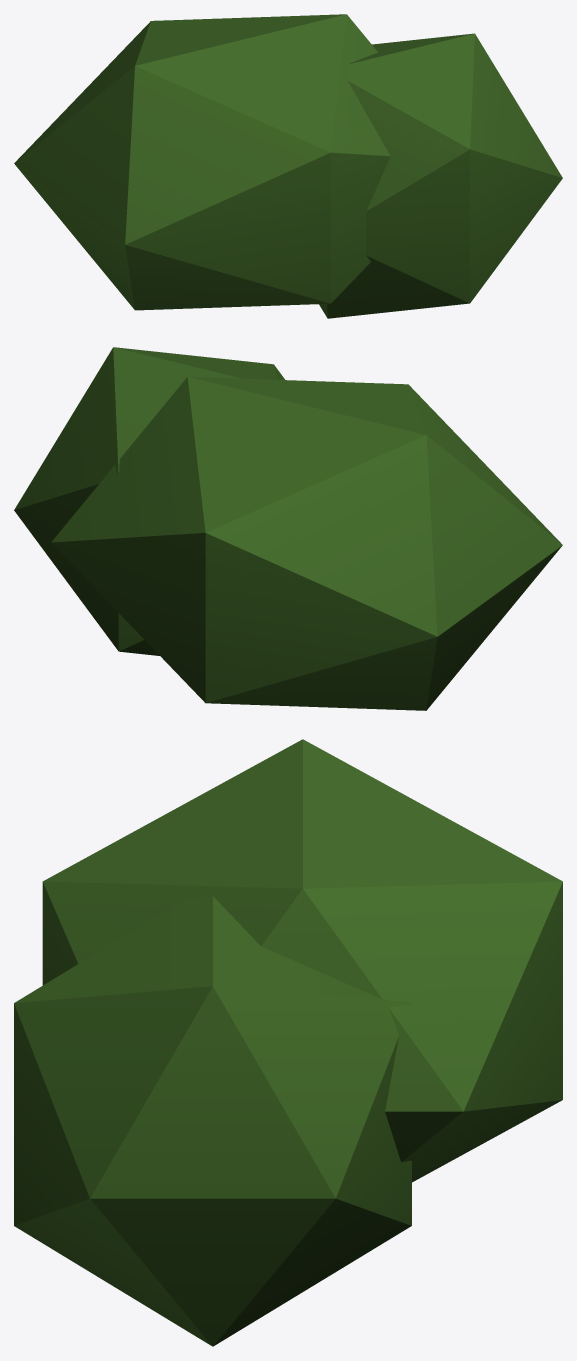
File: arbusto_verde.glb
3 views of the same model, one above another, from view 1: azimuth 30°, elevation 25°; view 2: azimuth 150°, elevation 25°; view 3: azimuth 270°, elevation 25° (orthographic). The views are drawn at different scales.
Visible parts, largest first — view 1: arbusto_verde_liso; view 2: arbusto_verde_liso; view 3: arbusto_verde_liso.
Part boxes in pixels (x1,y1,x2,y2): arbusto_verde_liso: (14,14,562,318); arbusto_verde_liso: (14,347,562,710); arbusto_verde_liso: (14,739,562,1346).
Size of the model in its own units: 1.95 by 1.2 by 1.53.
